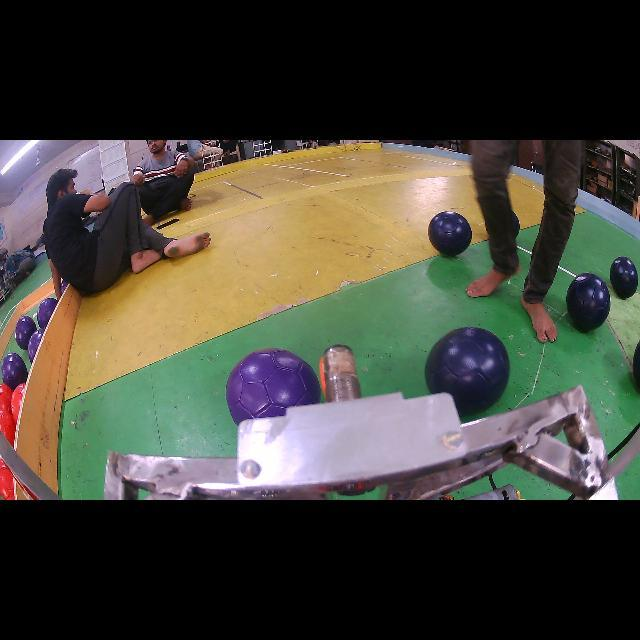B: (425, 328, 510, 416), (566, 272, 610, 331), (428, 211, 472, 256), (610, 256, 639, 299), (632, 341, 640, 390)
P: (226, 349, 320, 424), (1, 352, 28, 390), (15, 316, 36, 350), (36, 298, 58, 329), (28, 329, 45, 364)
R: (0, 459, 15, 500), (0, 410, 16, 446), (11, 384, 25, 423), (0, 384, 12, 412)
